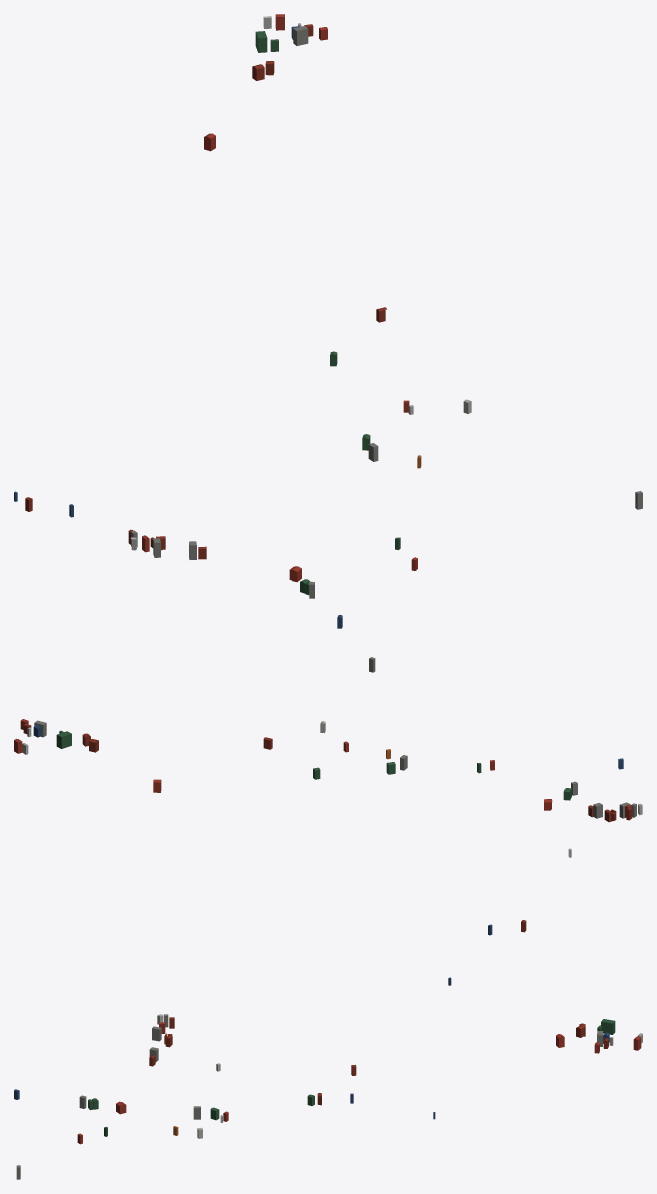
Rendered from near-15-27351-14860.a5cd67f5.glb.
3 views of the same model, one above another, from view 1: azimuth 30°, elevation 25°; view 2: azimuth 150°, elevation 25°; view 3: azimuth 270°, elevation 25° (orthographic). The views are drawn at different scales.
Bounding box in the file's own units: 791 × 478 × 1156.
